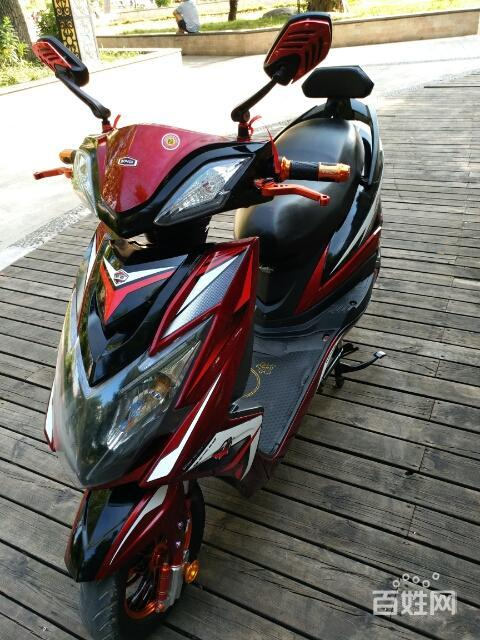电动车: (30, 13, 394, 631)
